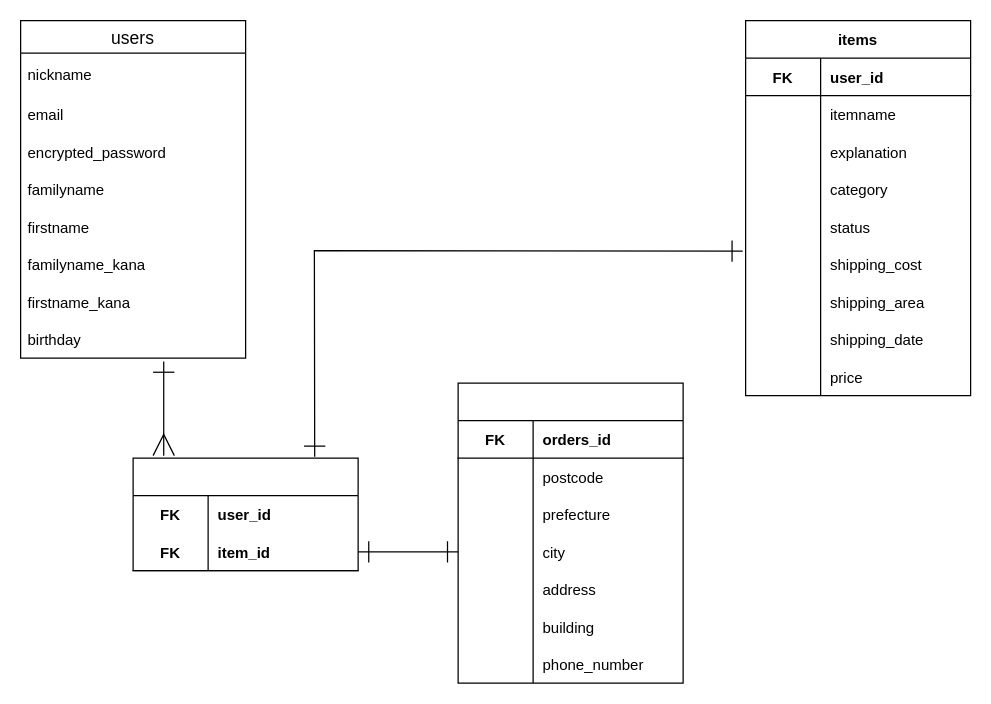
This 991x704 diagram has some shape labels left out. The box of each missing label's shape, as (x1, y1, x2, y2) in pixels:
destination: (457, 382, 683, 683)
orders: (132, 457, 358, 571)
